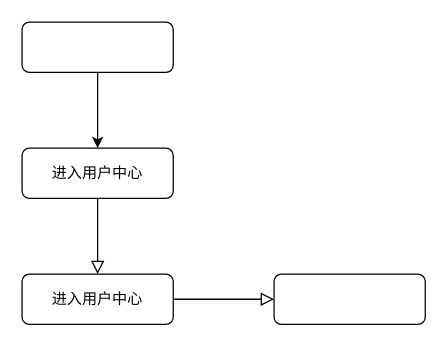
Some shapes in this 447 by 347 pixel diagram are drawn without their labels. Here are the shapes that lost their labels. From the top down, the centre of each, then its label:
At point 97,46: "用户登录".
At point 349,298: "查看订单记录".
